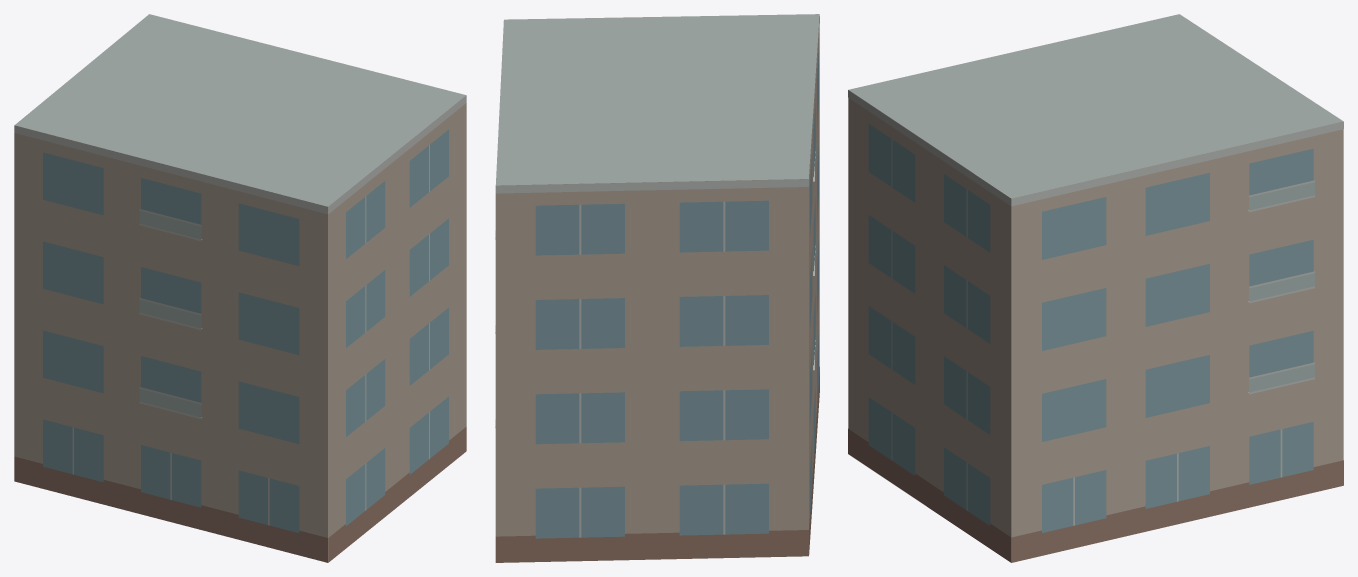
Rendered from survey-upis-32752513.glb.
3 renders of one model, left to right at view 1: azimuth 30°, elevation 25°; view 2: azimuth 150°, elevation 25°; view 3: azimuth 270°, elevation 25°, orthographic. The views are drawn at different scales.
Visible parts, largest first — view 1: survey-upis-32752513.tmp; view 2: survey-upis-32752513.tmp; view 3: survey-upis-32752513.tmp.
Boxes of the visible parts, x1,y1,x2,y2 form: survey-upis-32752513.tmp: [14, 14, 466, 562]; survey-upis-32752513.tmp: [495, 14, 819, 562]; survey-upis-32752513.tmp: [848, 14, 1343, 562].
Bounding box in the file's own units: 12.51 × 11.5 × 14.19.
